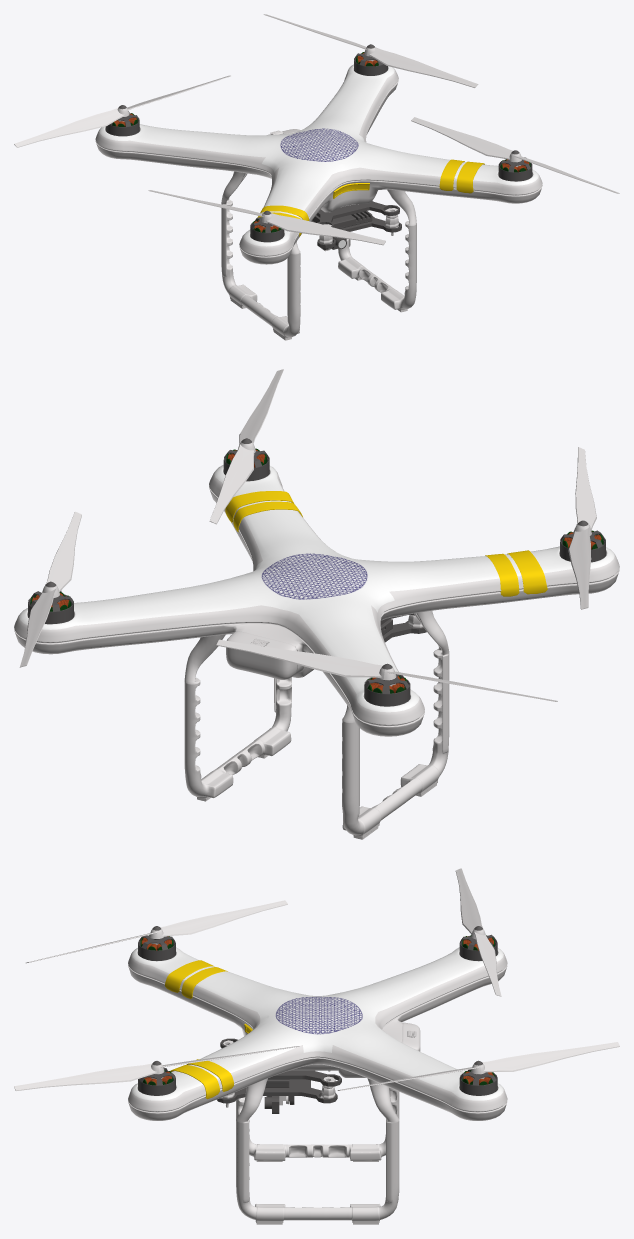
Rendered from drone.glb.
3 renders of one model, top to bottom at view 1: azimuth 30°, elevation 25°; view 2: azimuth 150°, elevation 25°; view 3: azimuth 270°, elevation 25°, orthographic. The views are drawn at different scales.
Visible parts, largest first — view 1: Dronr_body8, leg_rt_main1, leg_lf_main1, polySurface45, polySurface40, polySurface36, polySurface47, Drone_bands1, camera_plate_top1, camera_plate_btm1, pCube10; view 2: Dronr_body8, leg_rt_main1, leg_lf_main1, Drone_bands1, polySurface36, polySurface45, polySurface47, polySurface40, Drone_battery1; view 3: Dronr_body8, leg_lf_main1, leg_rt_main1, Drone_bands1, polySurface40, polySurface47, polySurface45, polySurface36, camera_plate_btm1, camera_plate_top1.
Part boxes in pixels (x1,y1,x2,y2): Dronr_body8: (95,64,542,264); leg_rt_main1: (221,171,300,338); leg_lf_main1: (338,189,416,310); polySurface45: (148,190,385,245); polySurface40: (411,117,619,193); polySurface36: (14,75,230,147); polySurface47: (263,14,478,87); Drone_bands1: (257,159,484,236); camera_plate_top1: (316,201,399,227); camera_plate_btm1: (311,216,401,248); pCube10: (312,211,372,228); Dronr_body8: (14,465,619,736); leg_rt_main1: (342,610,449,837); leg_lf_main1: (184,634,291,799); Drone_bands1: (225,491,547,596); polySurface36: (216,639,557,701); polySurface45: (568,447,596,609); polySurface47: (19,511,81,667); polySurface40: (209,369,283,524); Drone_battery1: (226,631,297,679); Dronr_body8: (128,947,507,1120); leg_lf_main1: (236,1078,399,1222); leg_rt_main1: (236,1087,399,1160); Drone_bands1: (165,960,233,1099); polySurface40: (14,1046,299,1090); polySurface47: (337,1042,619,1090); polySurface45: (26,900,287,963); polySurface36: (455,868,501,996); camera_plate_btm1: (217,1079,337,1103); camera_plate_top1: (220,1038,341,1086).
Bounding box in the file's own units: 34.72 × 14.41 × 39.98.
8 materials, 1 textured.
